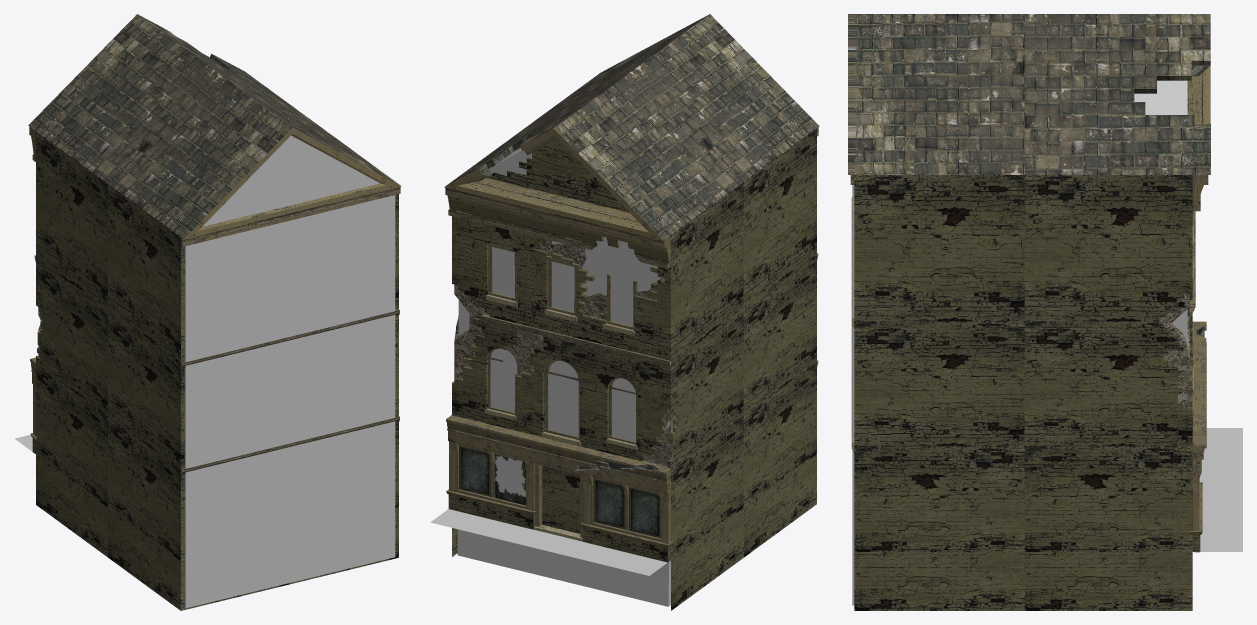
The model's file is RowHouse02.FBX.
The picture shows the model from 3 angles, left to right: view 1: azimuth 30°, elevation 25°; view 2: azimuth 150°, elevation 25°; view 3: azimuth 270°, elevation 25°; orthographic projection. The views are drawn at different scales.
Visible parts, largest first — view 1: RowHouse02_lod:0, RowHouse02:13, RowHouse02:16; view 2: RowHouse02:13, RowHouse02:16, RowHouse02_lod:0, RowHouse02:14, RowHouse02:34; view 3: RowHouse02:13, RowHouse02:16, RowHouse02:14, RowHouse02_lod:0.
Boxes of the visible parts, x1,y1,x2,y2 form: RowHouse02_lod:0: (184,135,395,608); RowHouse02:13: (32,131,398,610); RowHouse02:16: (28,14,401,474); RowHouse02:13: (448,128,816,610); RowHouse02:16: (444,14,819,547); RowHouse02_lod:0: (457,148,670,606); RowHouse02:14: (430,509,667,575); RowHouse02:34: (494,454,525,505); RowHouse02:13: (854,81,1200,610); RowHouse02:16: (848,14,1210,534); RowHouse02:14: (1200,428,1242,551); RowHouse02_lod:0: (852,80,1187,605).
Size of the model in its own units: 6.49 by 12.87 by 8.61.
